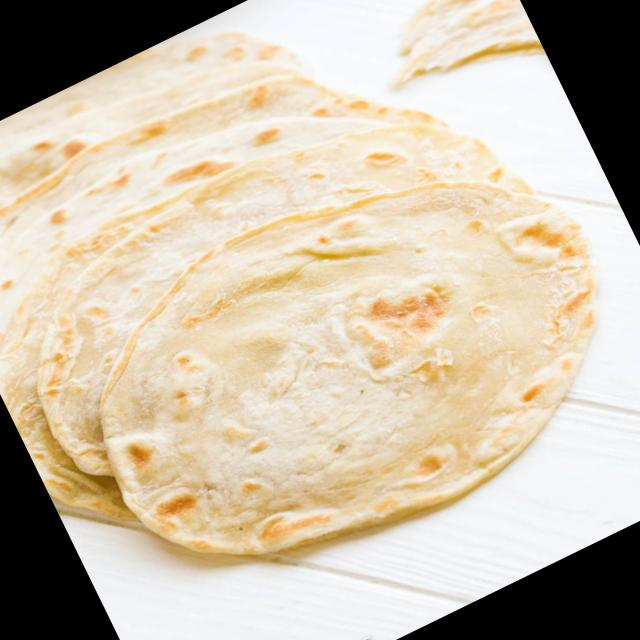roti: (0, 21, 612, 556)
